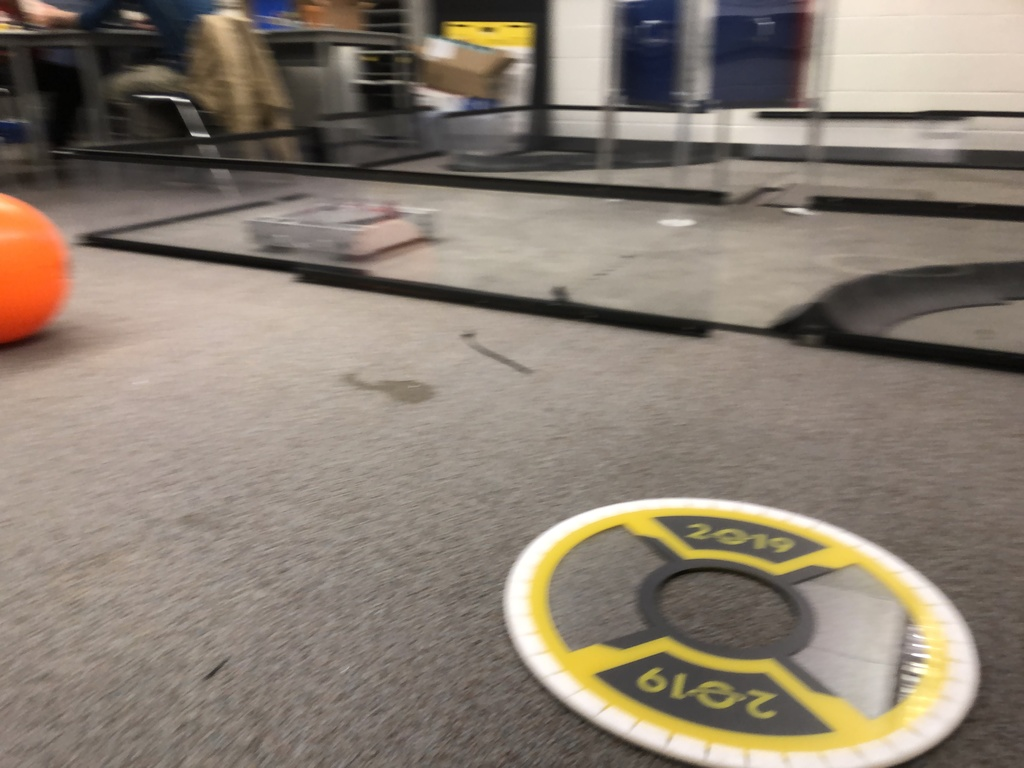hatch_panel: (493, 479, 976, 768)
